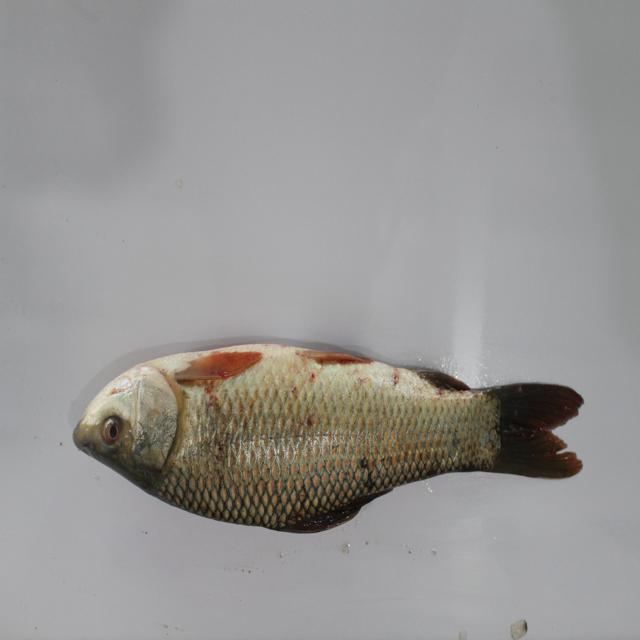Rohu: (59, 331, 598, 561)
